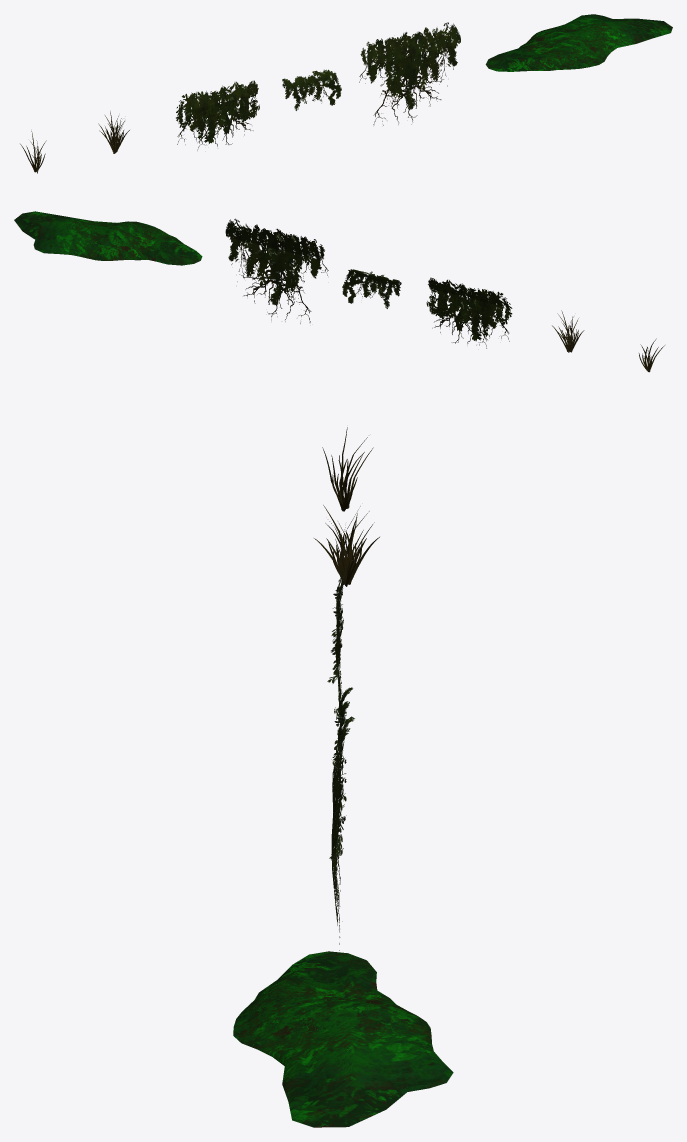
File: Foliage.fbx
3 views of the same model, one above another, from view 1: azimuth 30°, elevation 25°; view 2: azimuth 150°, elevation 25°; view 3: azimuth 270°, elevation 25° (orthographic). The views are drawn at different scales.
Visible parts, largest first — view 1: Sludge, Vine_01, Vine_03, Vine_02, Bush_01, Bush_02; view 2: Sludge, Vine_01, Vine_03, Vine_02, Bush_01; view 3: Sludge, Vine_01, Bush_01.
Boxes of the visible parts, left/top/right/bottom form: Sludge: left=485, top=14, right=672, bottom=71; Vine_01: left=359, top=22, right=460, bottom=125; Vine_03: left=176, top=80, right=259, bottom=150; Vine_02: left=282, top=69, right=341, bottom=110; Bush_01: left=98, top=111, right=129, bottom=153; Bush_02: left=20, top=131, right=46, bottom=173; Sludge: left=14, top=211, right=202, bottom=265; Vine_01: left=225, top=218, right=328, bottom=323; Vine_03: left=426, top=277, right=512, bottom=348; Vine_02: left=342, top=269, right=401, bottom=308; Bush_01: left=552, top=310, right=584, bottom=352; Sludge: left=233, top=951, right=453, bottom=1127; Vine_01: left=329, top=732, right=346, bottom=950; Bush_01: left=314, top=505, right=379, bottom=586.
Bounding box in the file's own units: 3303 × 537 × 486.
